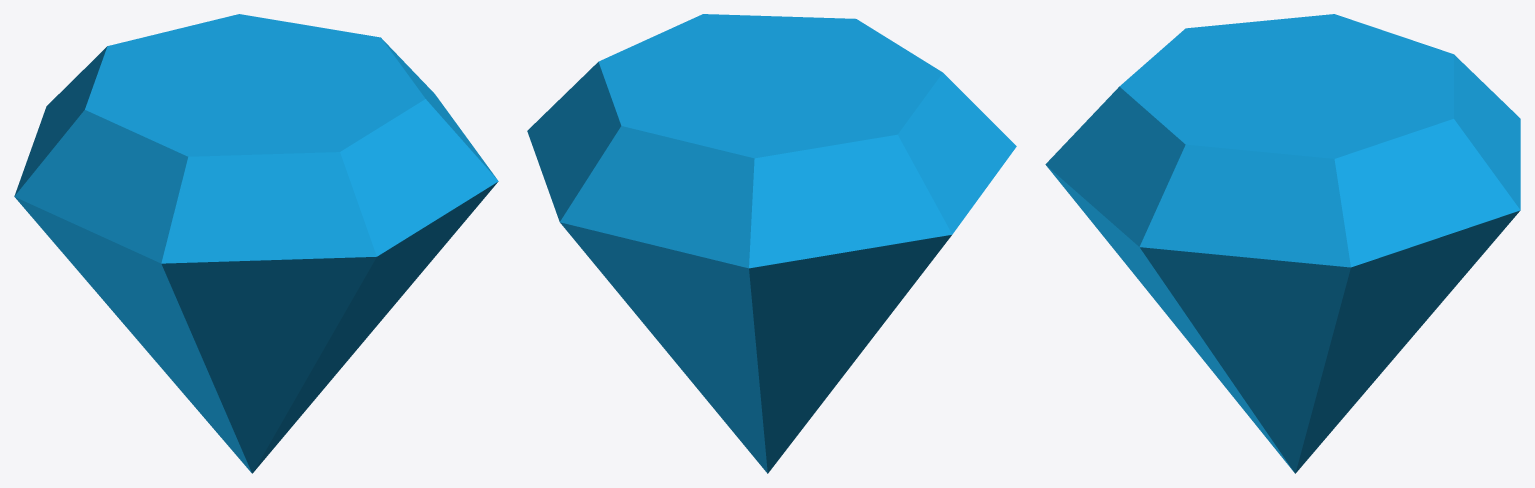
The model's file is SM_GemstT.fbx.
3 views of the same model, side by side, from view 1: azimuth 30°, elevation 25°; view 2: azimuth 150°, elevation 25°; view 3: azimuth 270°, elevation 25° (orthographic).
Visible parts, largest first — view 1: Cone; view 2: Cone; view 3: Cone.
Part boxes in pixels (x1,y1,x2,y2): Cone: (14, 14, 498, 473); Cone: (527, 14, 1016, 473); Cone: (1045, 14, 1520, 473).
Bounding box in the file's own units: 64.02 × 56.15 × 62.42.
